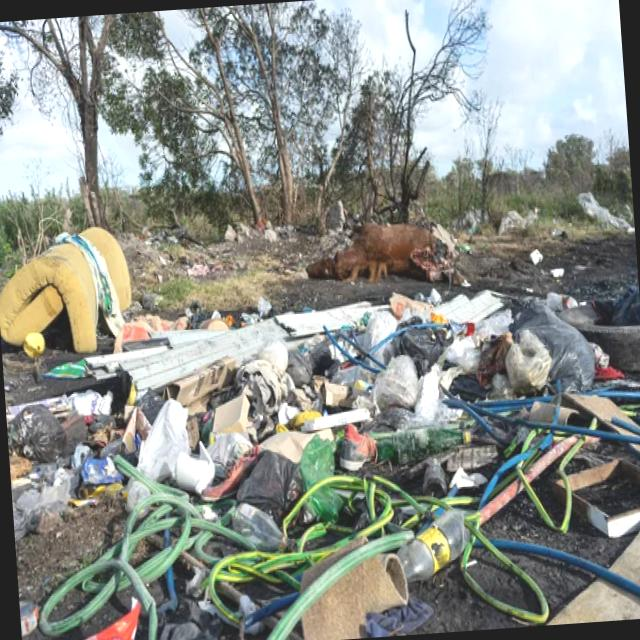garbage: (51, 259, 625, 640)
